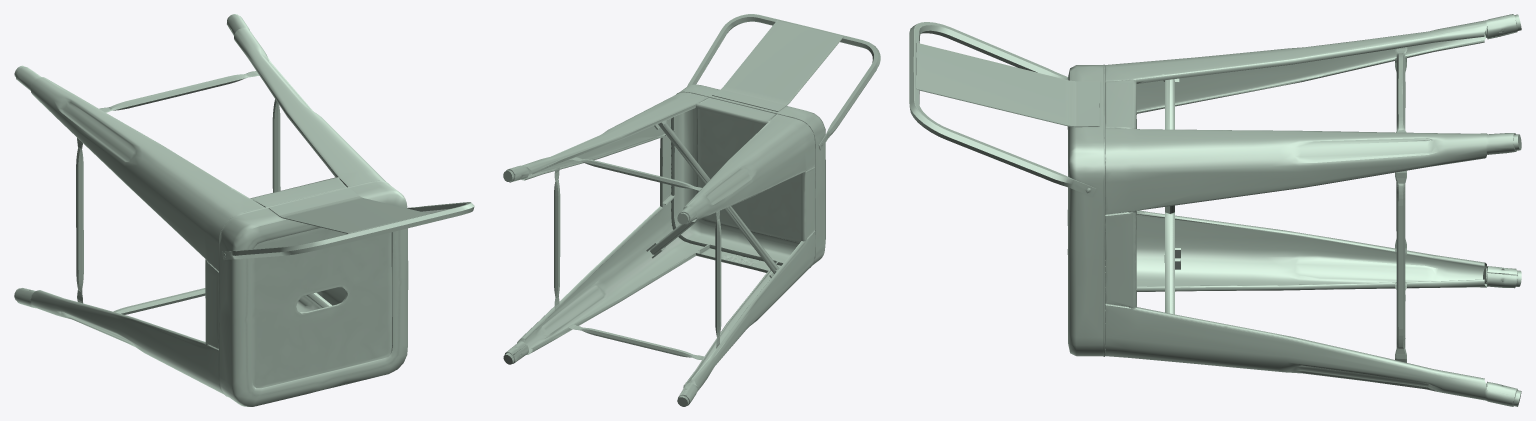
File: raw_model.glb
3 views of the same model, side by side, from view 1: azimuth 30°, elevation 25°; view 2: azimuth 150°, elevation 25°; view 3: azimuth 270°, elevation 25° (orthographic). The views are drawn at different scales.
Visible parts, largest first — view 1: raw_model.002; view 2: raw_model.002; view 3: raw_model.002.
Part boxes in pixels (x1,y1,x2,y2): raw_model.002: (14,14,474,406); raw_model.002: (503,14,880,406); raw_model.002: (909,14,1521,406).
Bounding box in the file's own units: 0.488 × 0.5047 × 0.994.
1 material, 1 textured.
